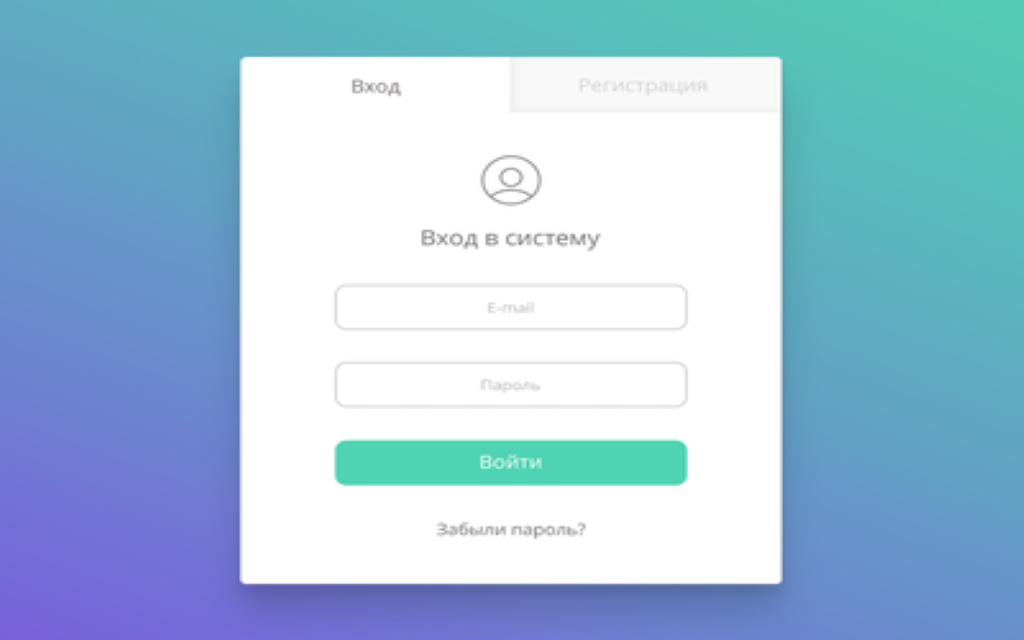button: (335, 441, 689, 486)
label_email: (482, 300, 539, 318)
textbox: (334, 362, 689, 406), (339, 287, 688, 331)
textbox_Email: (336, 287, 690, 333)
